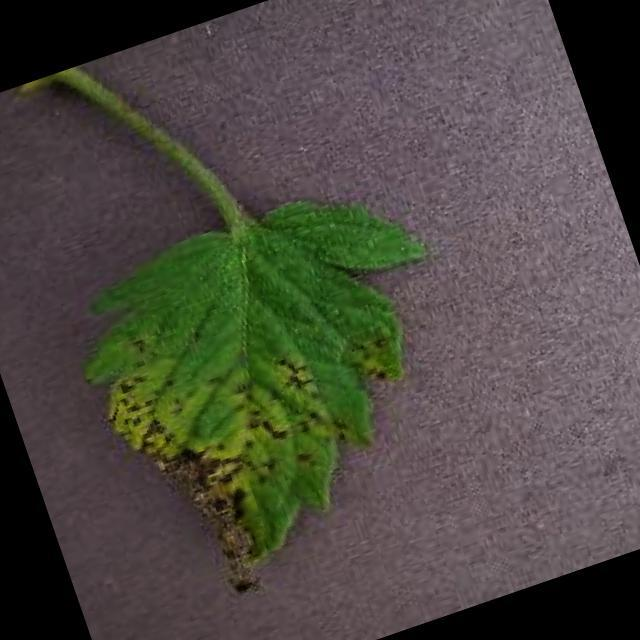Tomato Septoria spot leaf: (51, 154, 514, 623)
